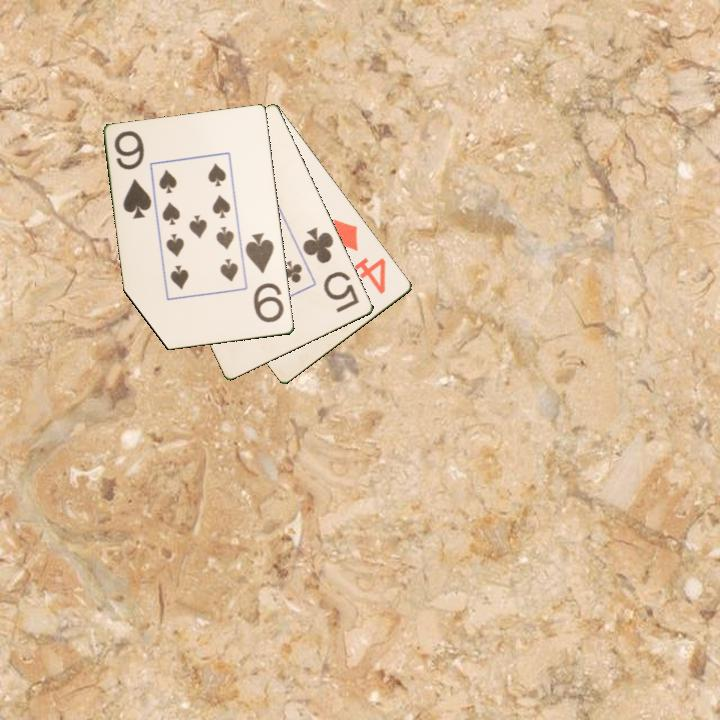4d: (329, 215, 389, 297)
5c: (299, 224, 363, 316)
9s: (242, 229, 287, 326), (111, 127, 155, 222)
